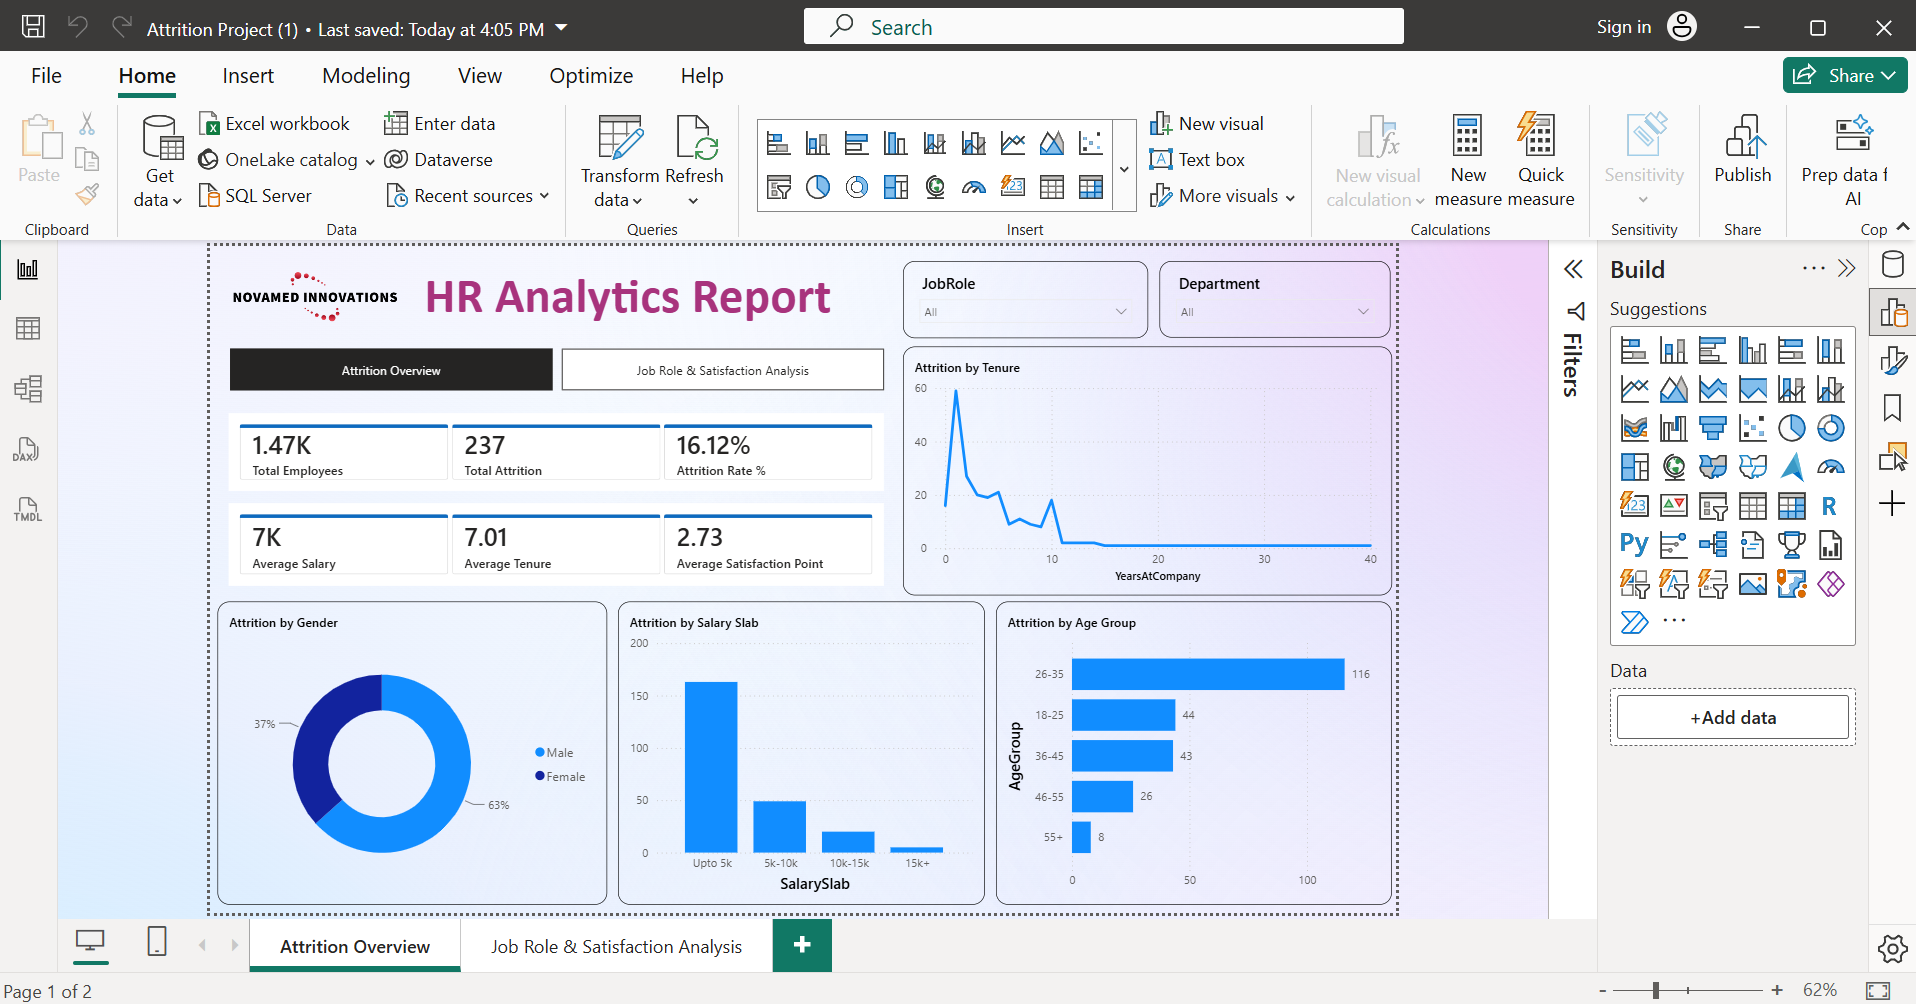

Layout of this report page (visuals, bound fields, positions):
{"tool":"powerbi","page":{"name":"Attrition Overview","canvas":[1280,720],"ordinal":0},"visuals":[{"type":"cardVisual","fields":{"Data":["HR_Analytics.Total Employees","HR_Analytics.Total Attrition","HR_Analytics.Attrition Rate %"]},"box":[8.1,168.4,731.9,108.5],"z":0},{"type":"slicer","fields":{"Values":["HR_Analytics.Department"]},"box":[1025.6,16.2,249.5,82.6],"z":1000},{"type":"slicer","fields":{"Values":["HR_Analytics.JobRole"]},"box":[748.8,15.8,265,83],"z":2000},{"type":"cardVisual","fields":{"Data":["HR_Analytics.Average Salary","HR_Analytics.Average Tenure","HR_Analytics.Average Satisfaction Point"]},"box":[8.1,265.6,731.9,113.3],"z":3000},{"type":"donutChart","title":"Attrition by Gender","fields":{"Category":["HR_Analytics.Gender"],"Y":["HR_Analytics.Total Attrition"]},"box":[8.5,384.2,420.4,327.4],"z":4000},{"type":"columnChart","title":"Attrition by Salary Slab","fields":{"Category":["HR_Analytics.SalarySlab"],"Y":["HR_Analytics.Total Attrition"]},"box":[440.3,384.2,396.2,327.4],"z":5000},{"type":"barChart","title":"Attrition by Age Group","fields":{"Category":["HR_Analytics.AgeGroup"],"Y":["HR_Analytics.Total Attrition"]},"box":[848.1,384.2,427.7,327.4],"z":6000},{"type":"lineChart","title":"Attrition by Tenure","fields":{"Category":["HR_Analytics.YearsAtCompany"],"Y":["HR_Analytics.Total Attrition"]},"box":[748.1,108.5,527.9,268.8],"z":7000},{"type":"pageNavigator","box":[9.7,98.8,730.3,69.6],"z":8000},{"type":"textbox","box":[9.7,8.1,730.3,92.3],"z":9000},{"type":"image","box":[21,4.9,184.6,98.8],"z":10000}]}

Visuals, with their boxes on the page's 1280x720 design canvas (x1, y1, x2, y2). These are canvas units, not pixel positions in the 1916x1004 screenshot, which may show the page scaled, cropped or inside an application window:
cardVisual - HR_Analytics.Total Employees x HR_Analytics.Total Attrition: bbox(8, 168, 740, 277)
slicer - HR_Analytics.Department: bbox(1026, 16, 1275, 99)
slicer - HR_Analytics.JobRole: bbox(749, 16, 1014, 99)
cardVisual - HR_Analytics.Average Salary x HR_Analytics.Average Tenure: bbox(8, 266, 740, 379)
"Attrition by Gender" donutChart: bbox(8, 384, 429, 712)
"Attrition by Salary Slab" columnChart: bbox(440, 384, 836, 712)
"Attrition by Age Group" barChart: bbox(848, 384, 1276, 712)
"Attrition by Tenure" lineChart: bbox(748, 108, 1276, 377)
pageNavigator: bbox(10, 99, 740, 168)
textbox: bbox(10, 8, 740, 100)
image: bbox(21, 5, 206, 104)
